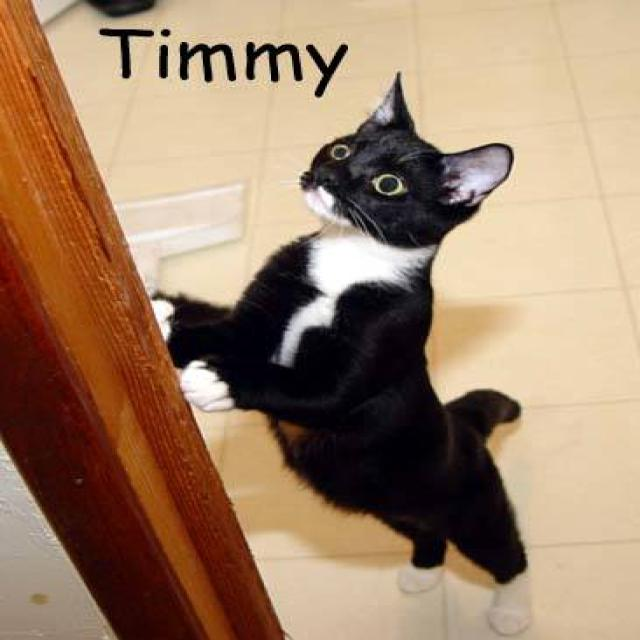cat: (147, 70, 533, 636)
